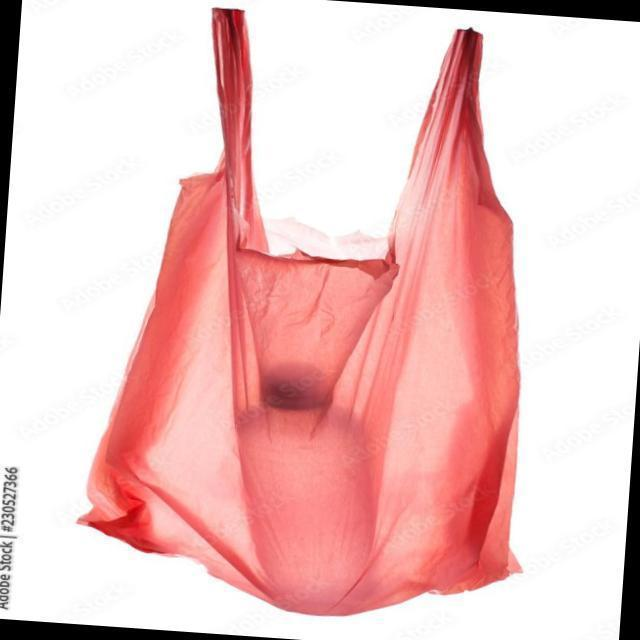Plastic_Bag: (75, 0, 569, 611)
